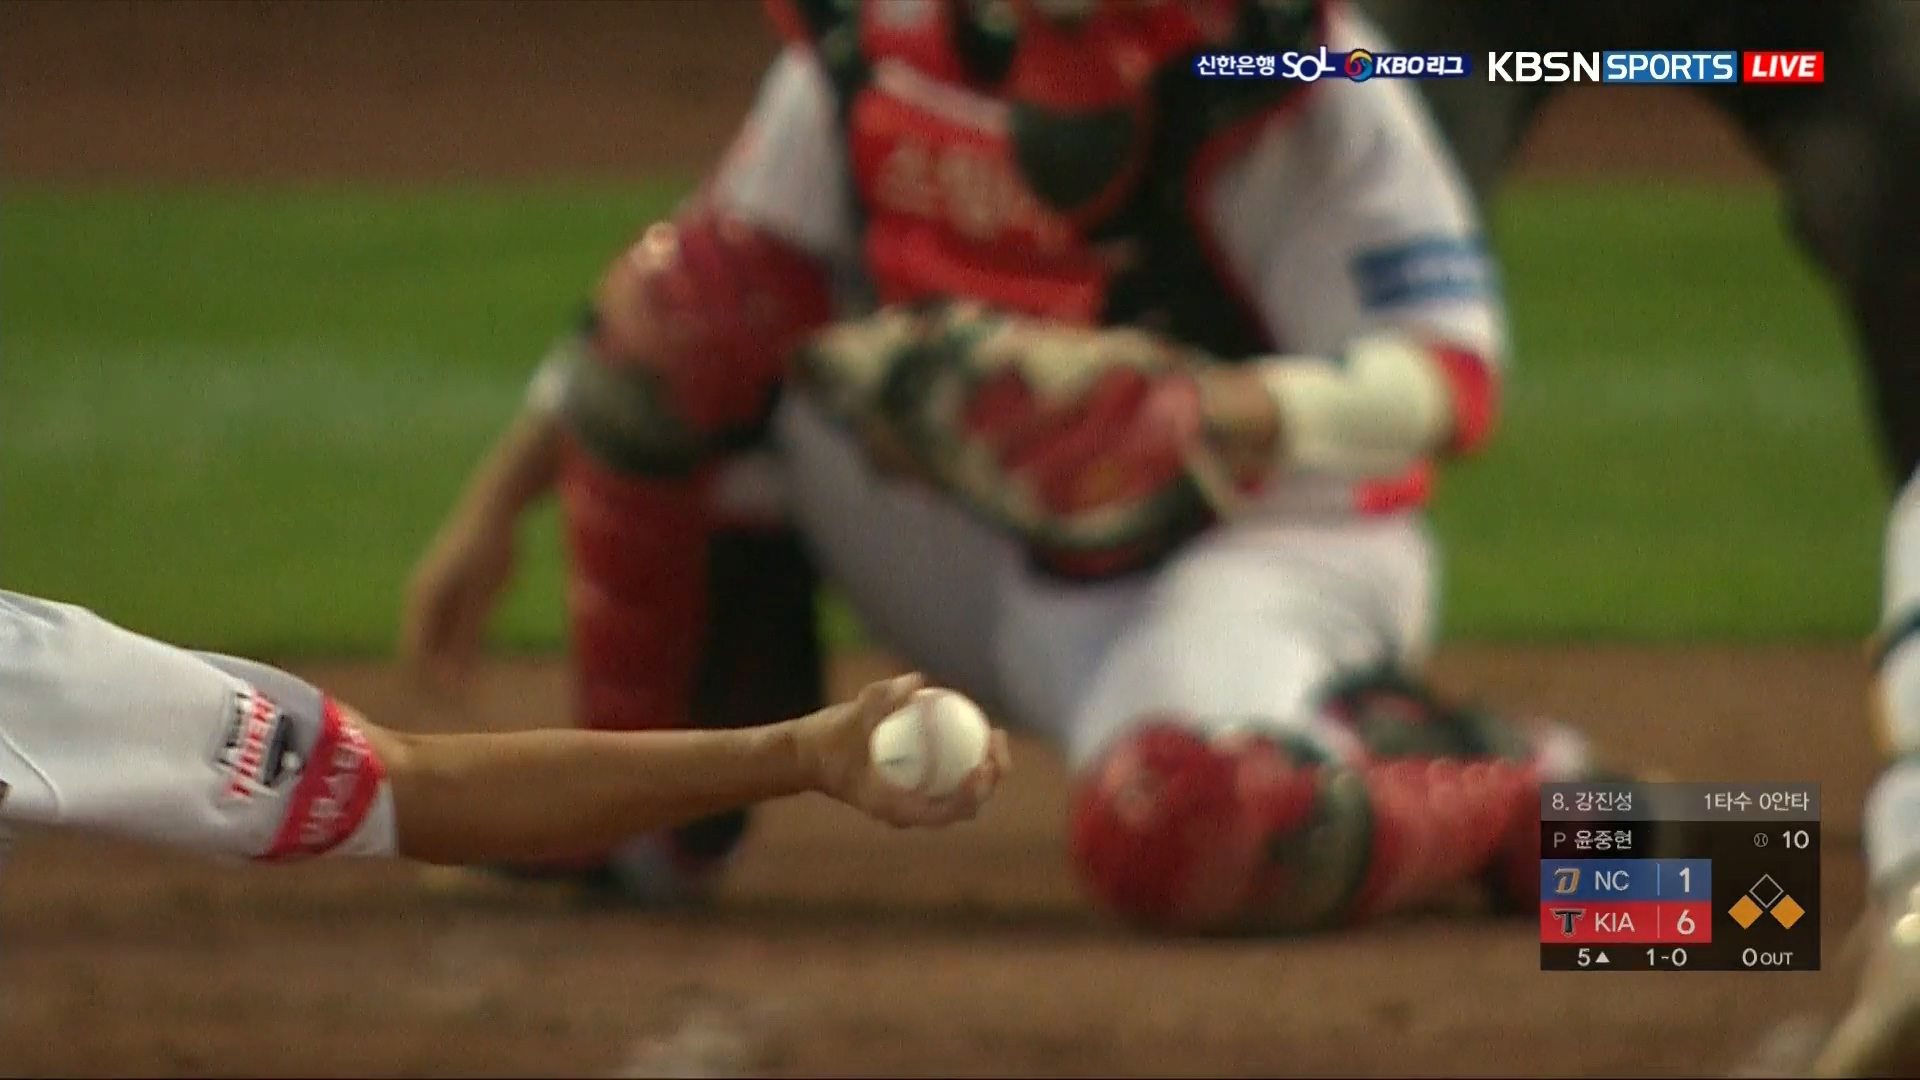zoomin_hand: (382, 667, 1021, 874)
